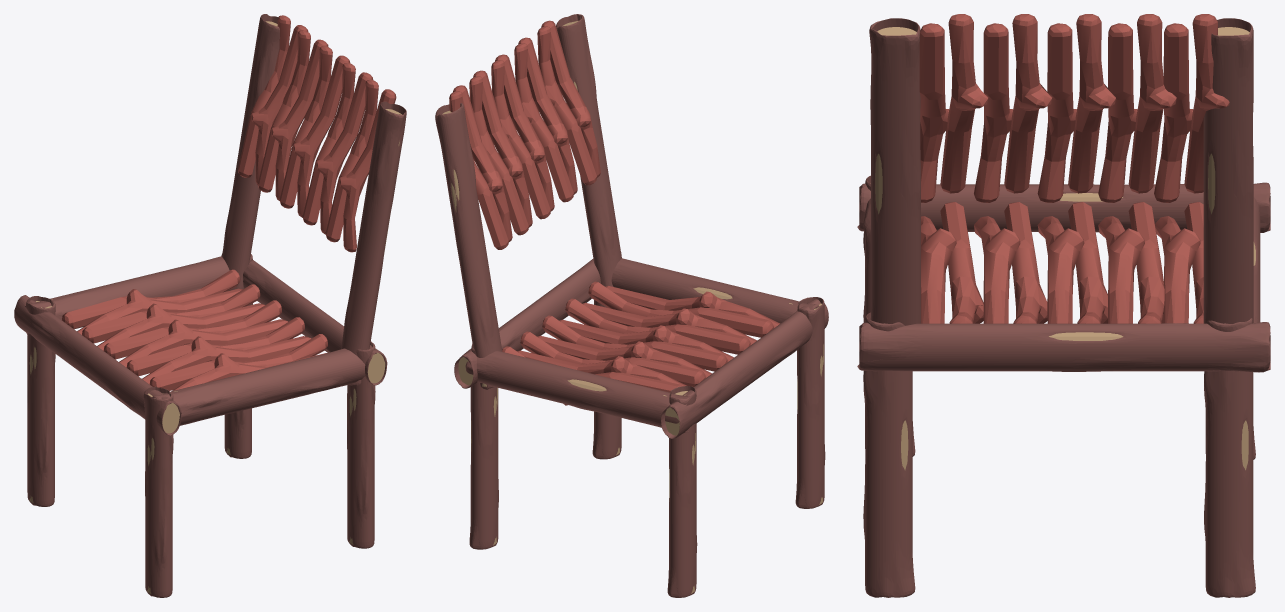
The model's file is chair.fbx.
3 renders of one model, left to right at view 1: azimuth 30°, elevation 25°; view 2: azimuth 150°, elevation 25°; view 3: azimuth 270°, elevation 25°, orthographic. The views are drawn at different scales.
Visible parts, largest first — view 1: chair; view 2: chair; view 3: chair.
Part boxes in pixels (x1,y1,x2,y2): chair: [14, 14, 406, 597]; chair: [435, 14, 828, 597]; chair: [857, 14, 1270, 597].
Bounding box in the file's own units: 336 × 534 × 331.
